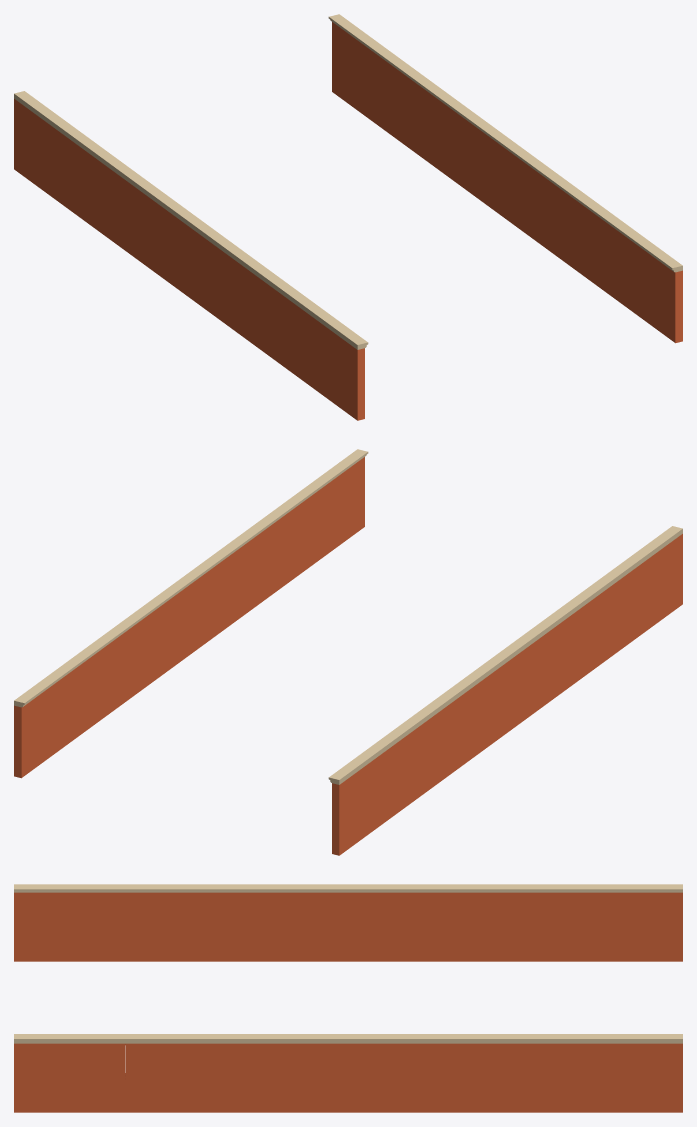
File: walls.fbx
3 views of the same model, one above another, from view 1: azimuth 30°, elevation 25°; view 2: azimuth 150°, elevation 25°; view 3: azimuth 270°, elevation 25° (orthographic). The views are drawn at different scales.
Parts seen in each view (by area): view 1: Plane.005, Plane.003; view 2: Plane.005, Plane.003; view 3: Plane.003, Plane.005.
Part boxes in pixels (box(x1,y1,x2,y2)): Plane.005: box(14, 91, 368, 420); Plane.003: box(328, 14, 682, 343); Plane.005: box(328, 526, 682, 855); Plane.003: box(14, 449, 368, 778); Plane.003: box(14, 1034, 682, 1112); Plane.005: box(14, 884, 682, 961).
Bounding box in the file's own units: 1764 × 392 × 3226.
